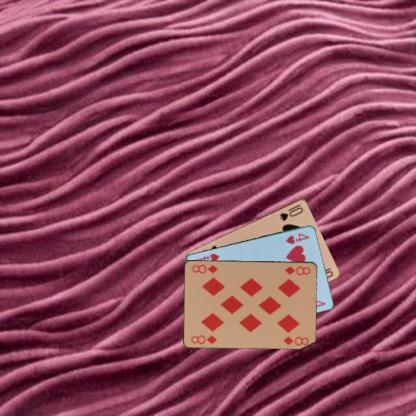10s: (277, 201, 304, 222)
4h: (283, 230, 311, 245)
8d: (188, 332, 218, 345), (283, 264, 312, 276)
